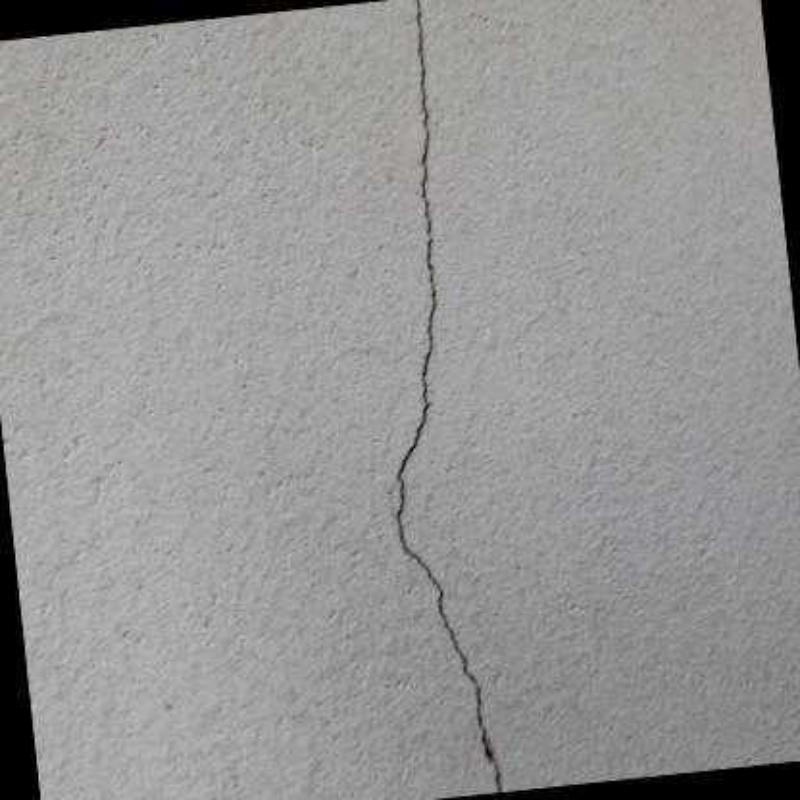pothole: (393, 0, 501, 792)
